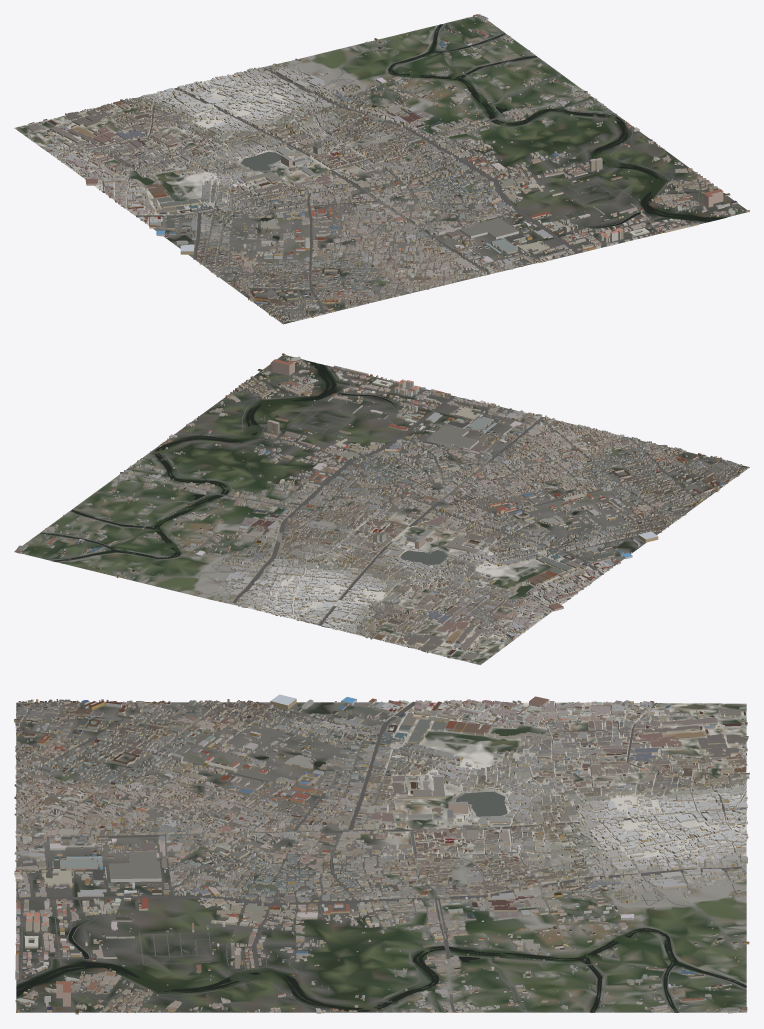
3 renders of one model, top to bottom at view 1: azimuth 30°, elevation 25°; view 2: azimuth 150°, elevation 25°; view 3: azimuth 270°, elevation 25°, orthographic. The views are drawn at different scales.
Parts seen in each view (by area): view 1: buildings, ground, roads, water; view 2: buildings, ground, roads, water; view 3: buildings, ground, roads, water.
Part boxes in pixels (x1,y1,x2,y2): buildings: (27,14,749,323); ground: (14,15,747,324); roads: (29,23,745,318); water: (207,24,725,239); buildings: (15,353,748,661); ground: (14,355,749,664); roads: (38,358,729,657); water: (39,361,579,617); buildings: (14,694,749,1014); ground: (16,702,746,1012); roads: (15,701,746,1012); water: (16,755,746,1012).
Bounding box in the file's own units: 2850 × 64.53 × 2823.
